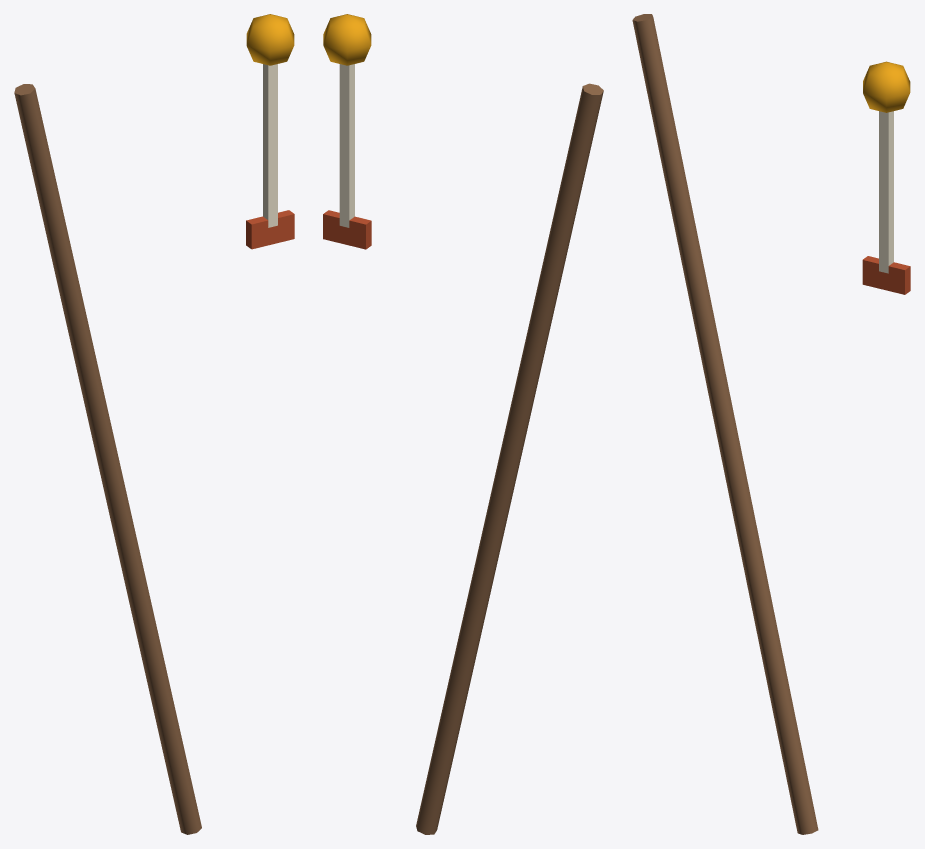
File: rod.glb
The picture shows the model from 3 angles, left to right: view 1: azimuth 30°, elevation 25°; view 2: azimuth 150°, elevation 25°; view 3: azimuth 330°, elevation 25°; orthographic projection.
Parts seen in each view (by area): view 1: rod; view 2: rod; view 3: rod.
Boxes of the visible parts, x1=… form: rod: x1=14, y1=14, x2=294, y2=834; rod: x1=323, y1=14, x2=603, y2=834; rod: x1=632, y1=14, x2=910, y2=834.
Size of the model in its own units: 0.5836 by 1.59 by 0.0866.
